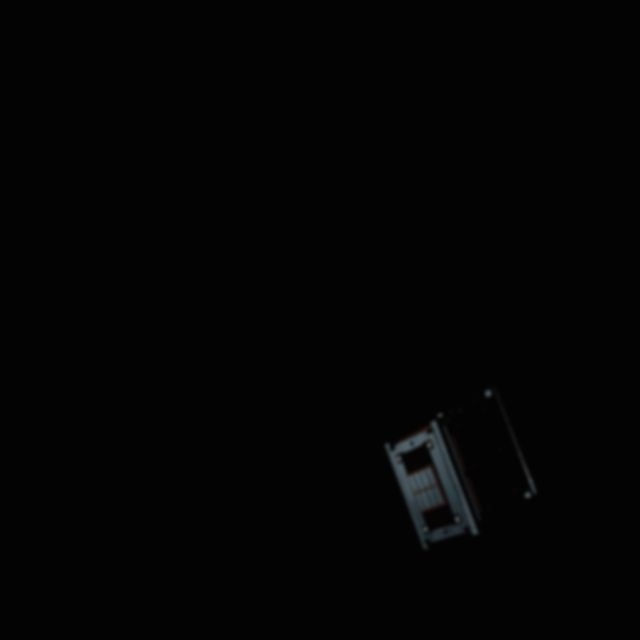medium_debris: (384, 380, 545, 556)
